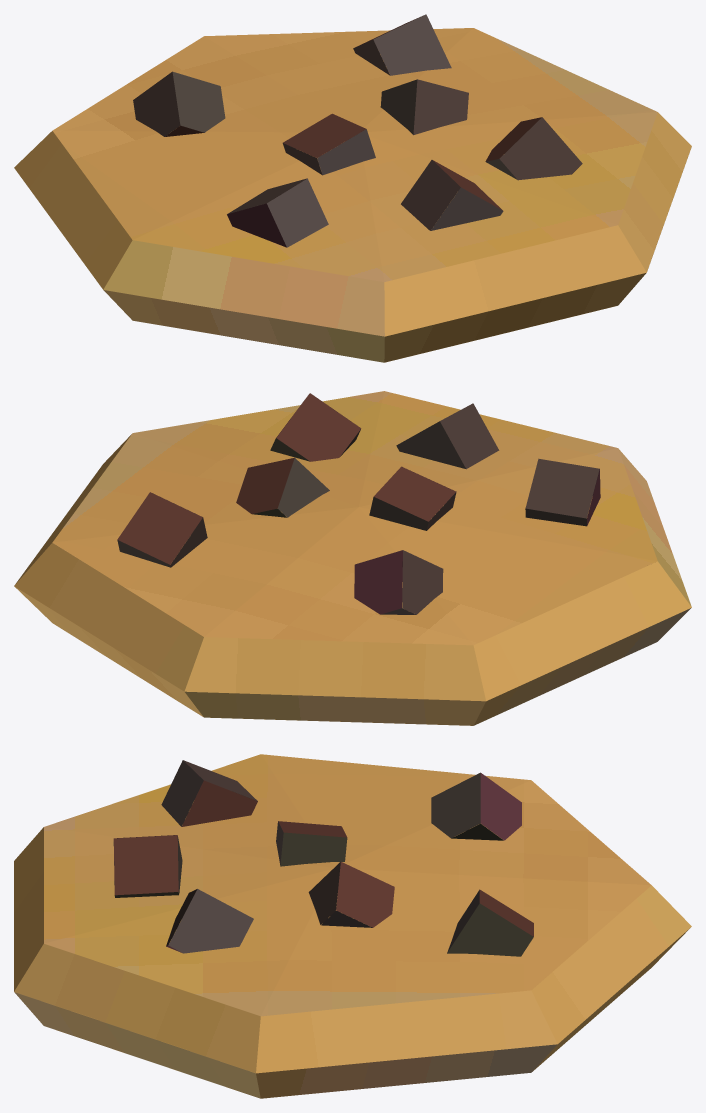
File: cookie-optimized.glb
3 renders of one model, top to bottom at view 1: azimuth 30°, elevation 25°; view 2: azimuth 150°, elevation 25°; view 3: azimuth 270°, elevation 25°, orthographic. The views are drawn at different scales.
Parts seen in each view (by area): view 1: sphere, cuboid (×7); view 2: sphere, cuboid (×7); view 3: sphere, cuboid (×7).
Boxes of the visible parts, x1,y1,x2,y2 form: sphere: [14, 28, 691, 362]; cuboid (×7): [133, 14, 582, 247]; sphere: [14, 391, 691, 725]; cuboid (×7): [117, 393, 600, 614]; sphere: [14, 754, 691, 1098]; cuboid (×7): [113, 760, 533, 956].
Size of the model in its own units: 0.6763 by 0.166 by 0.6593.
1 material, 1 textured.
